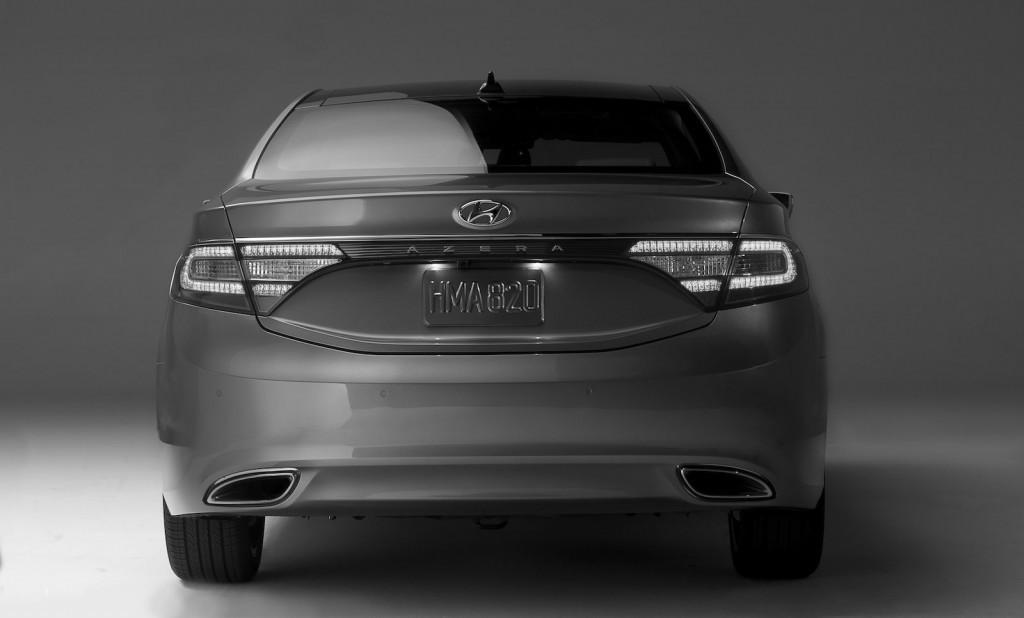car: (154, 71, 831, 587)
